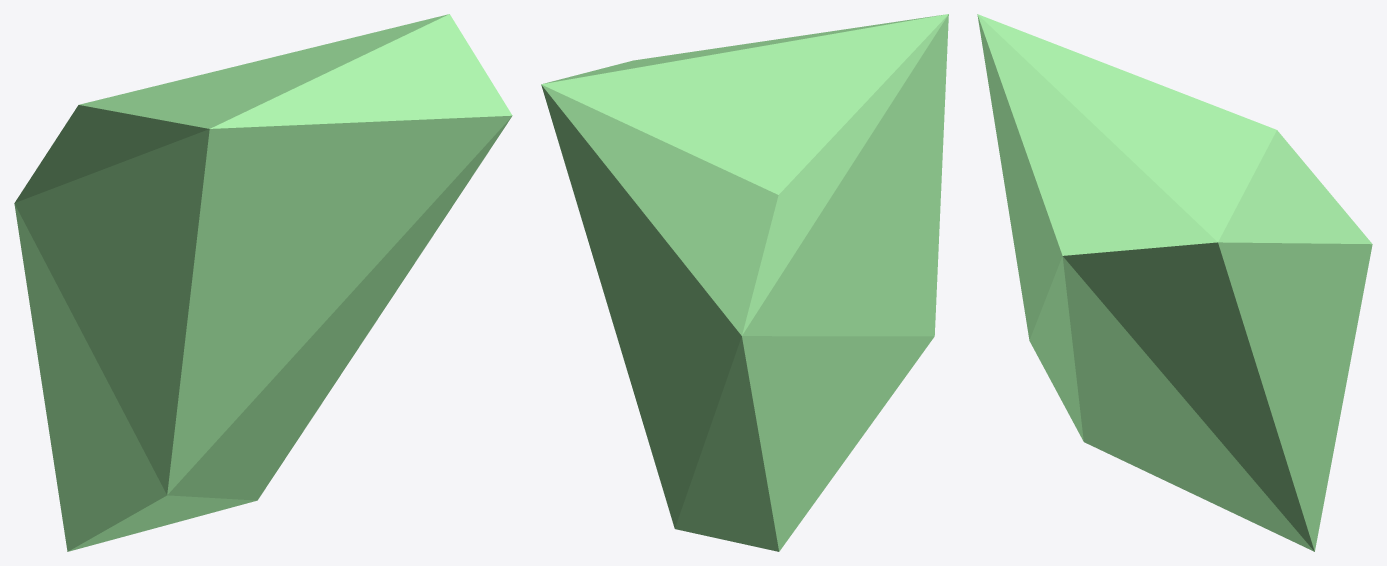
The model's file is dvkr_robot_L3_dx_respondable_TOOL2_coll_15.dae.
3 renders of one model, left to right at view 1: azimuth 30°, elevation 25°; view 2: azimuth 150°, elevation 25°; view 3: azimuth 270°, elevation 25°, orthographic. The views are drawn at different scales.
Visible parts, largest first — view 1: Node_0000023514CD9290; view 2: Node_0000023514CD9290; view 3: Node_0000023514CD9290.
Boxes of the visible parts, x1,y1,x2,y2 form: Node_0000023514CD9290: (14,14,512,551); Node_0000023514CD9290: (541,14,948,551); Node_0000023514CD9290: (977,14,1372,551).
Bounding box in the file's own units: 0.00208 × 0.00286 × 0.00211.
